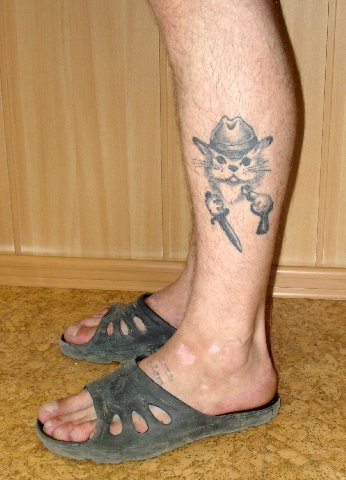tatu8_kot: (194, 116, 277, 259)
